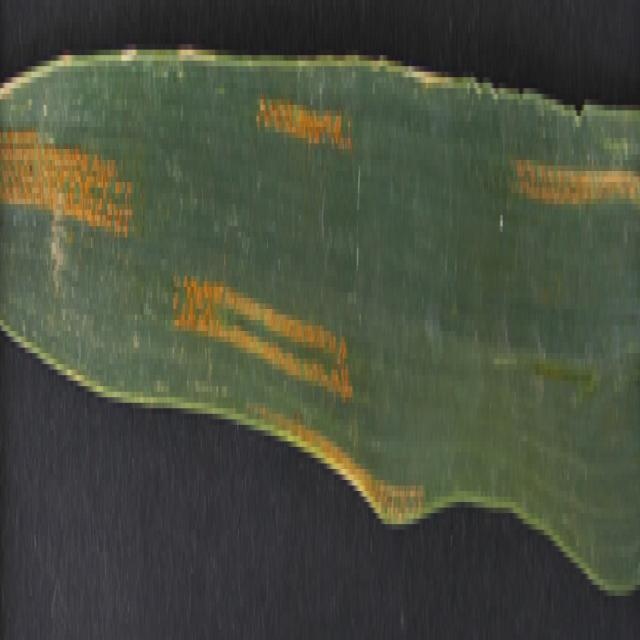leaf rust: (165, 232, 352, 425), (1, 94, 139, 276), (515, 127, 640, 254), (251, 28, 350, 182), (334, 430, 422, 519)
